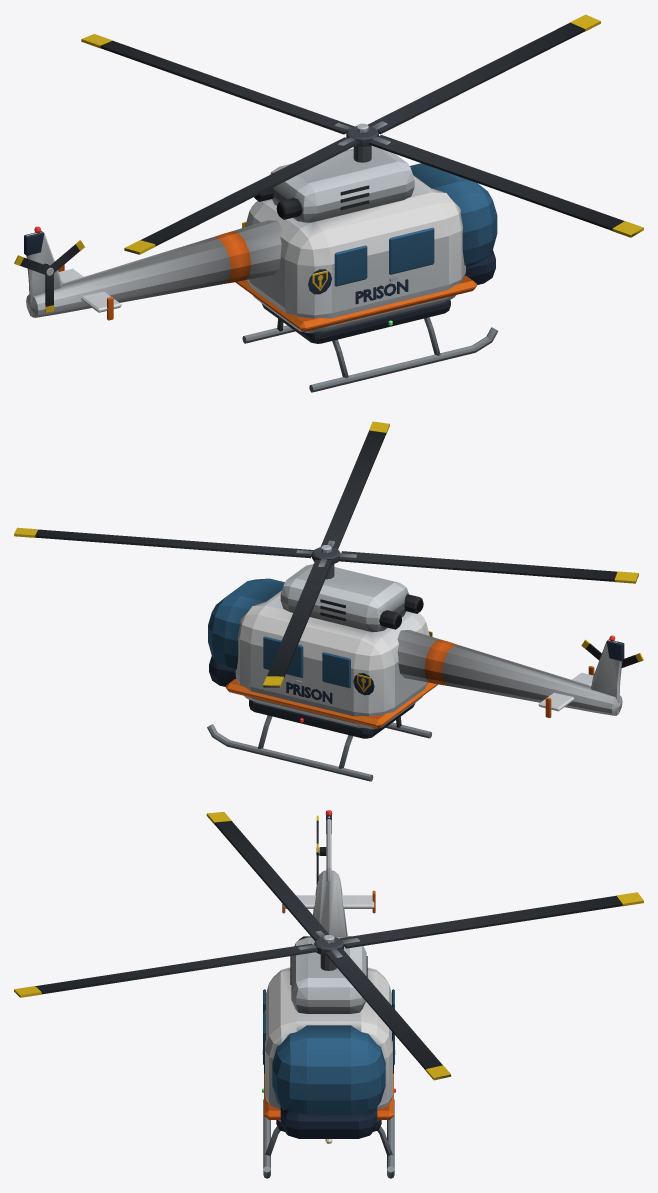
Rendered from helicopter.glb.
3 renders of one model, top to bottom at view 1: azimuth 30°, elevation 25°; view 2: azimuth 150°, elevation 25°; view 3: azimuth 270°, elevation 25°, orthographic. The views are drawn at different scales.
Parts seen in each view (by area): view 1: Body, Rotor, Tail; view 2: Body, Rotor; view 3: Body, Rotor.
Part boxes in pixels (bbox=[...]): Body: bbox=[24, 145, 498, 392]; Rotor: bbox=[81, 14, 643, 254]; Tail: bbox=[14, 240, 84, 312]; Body: bbox=[207, 564, 624, 781]; Rotor: bbox=[14, 421, 638, 687]; Body: bbox=[262, 811, 395, 1178]; Rotor: bbox=[14, 812, 643, 1080].
Size of the model in its own units: 9.19 by 3 by 8.35.
